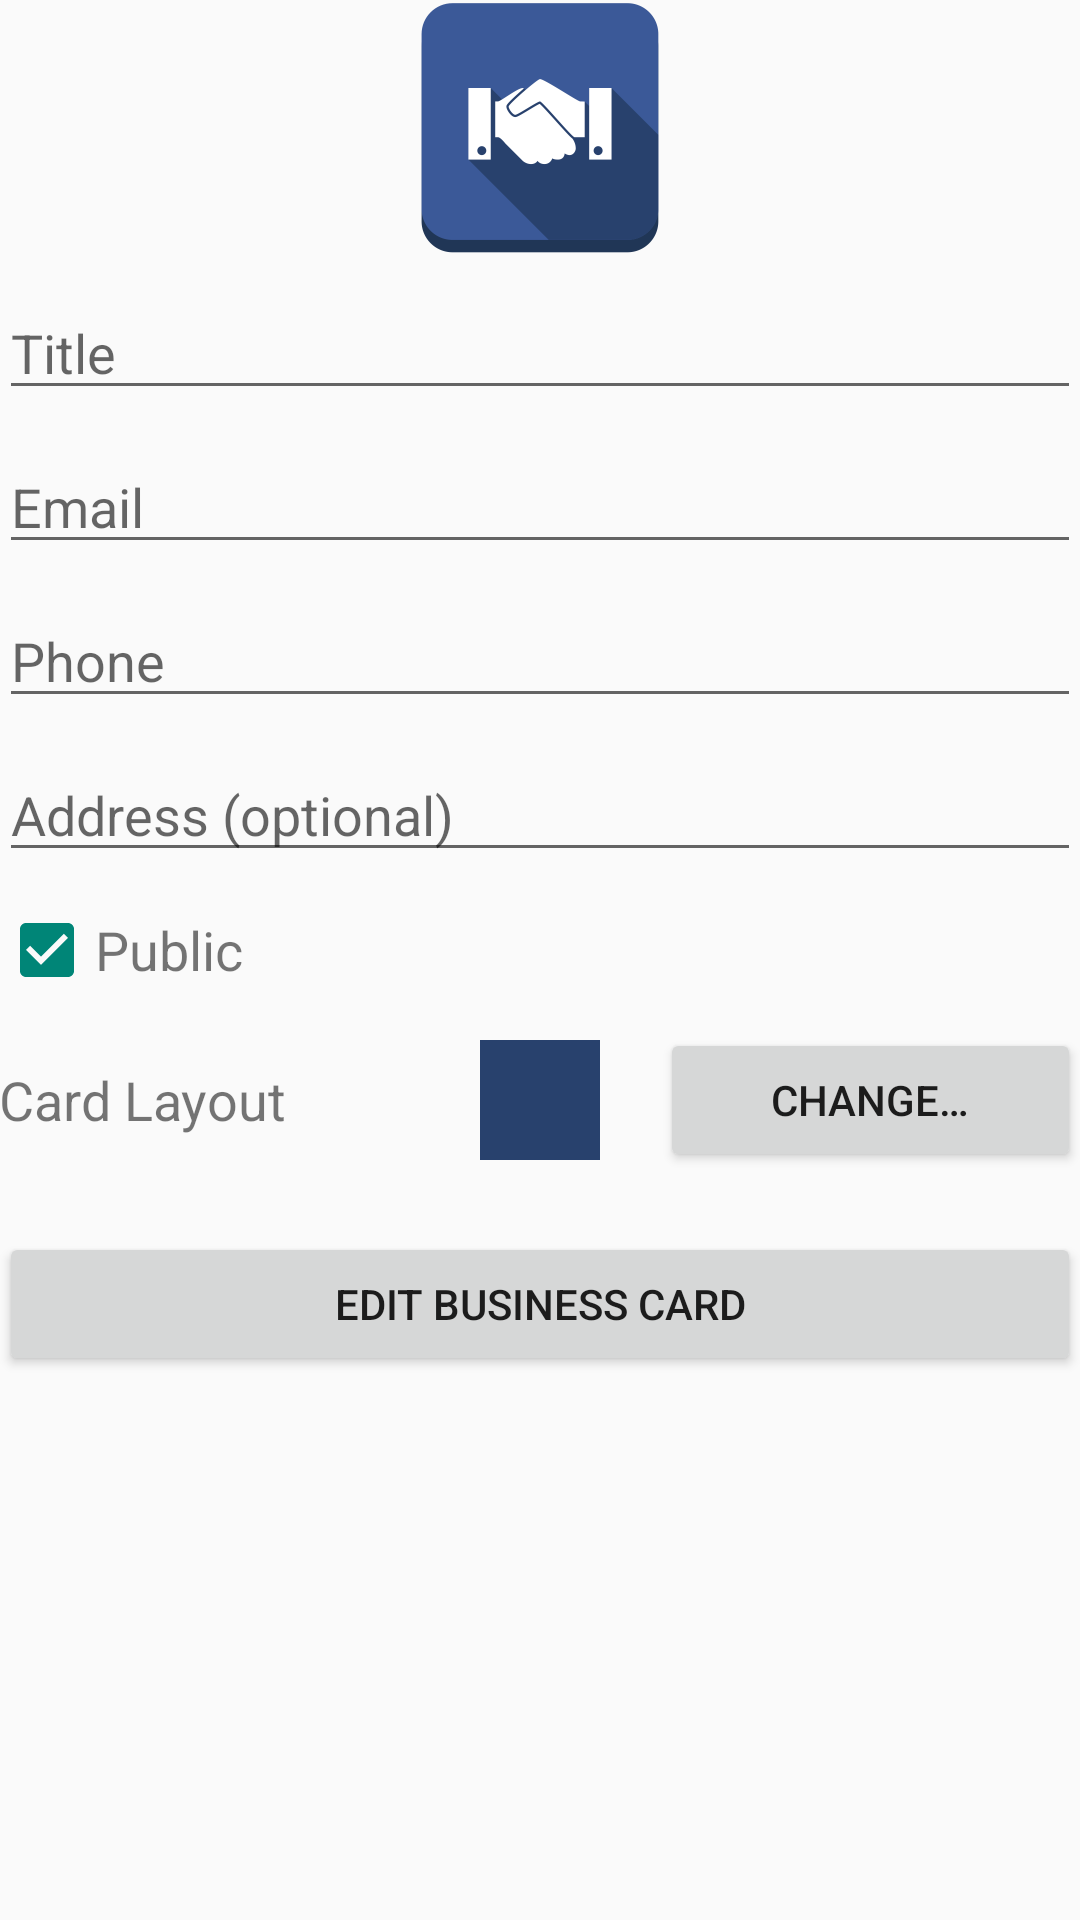

Named icons in this screenshot (1080px x 1920px) and their centers, (x,y):
handshake: (540,128)
